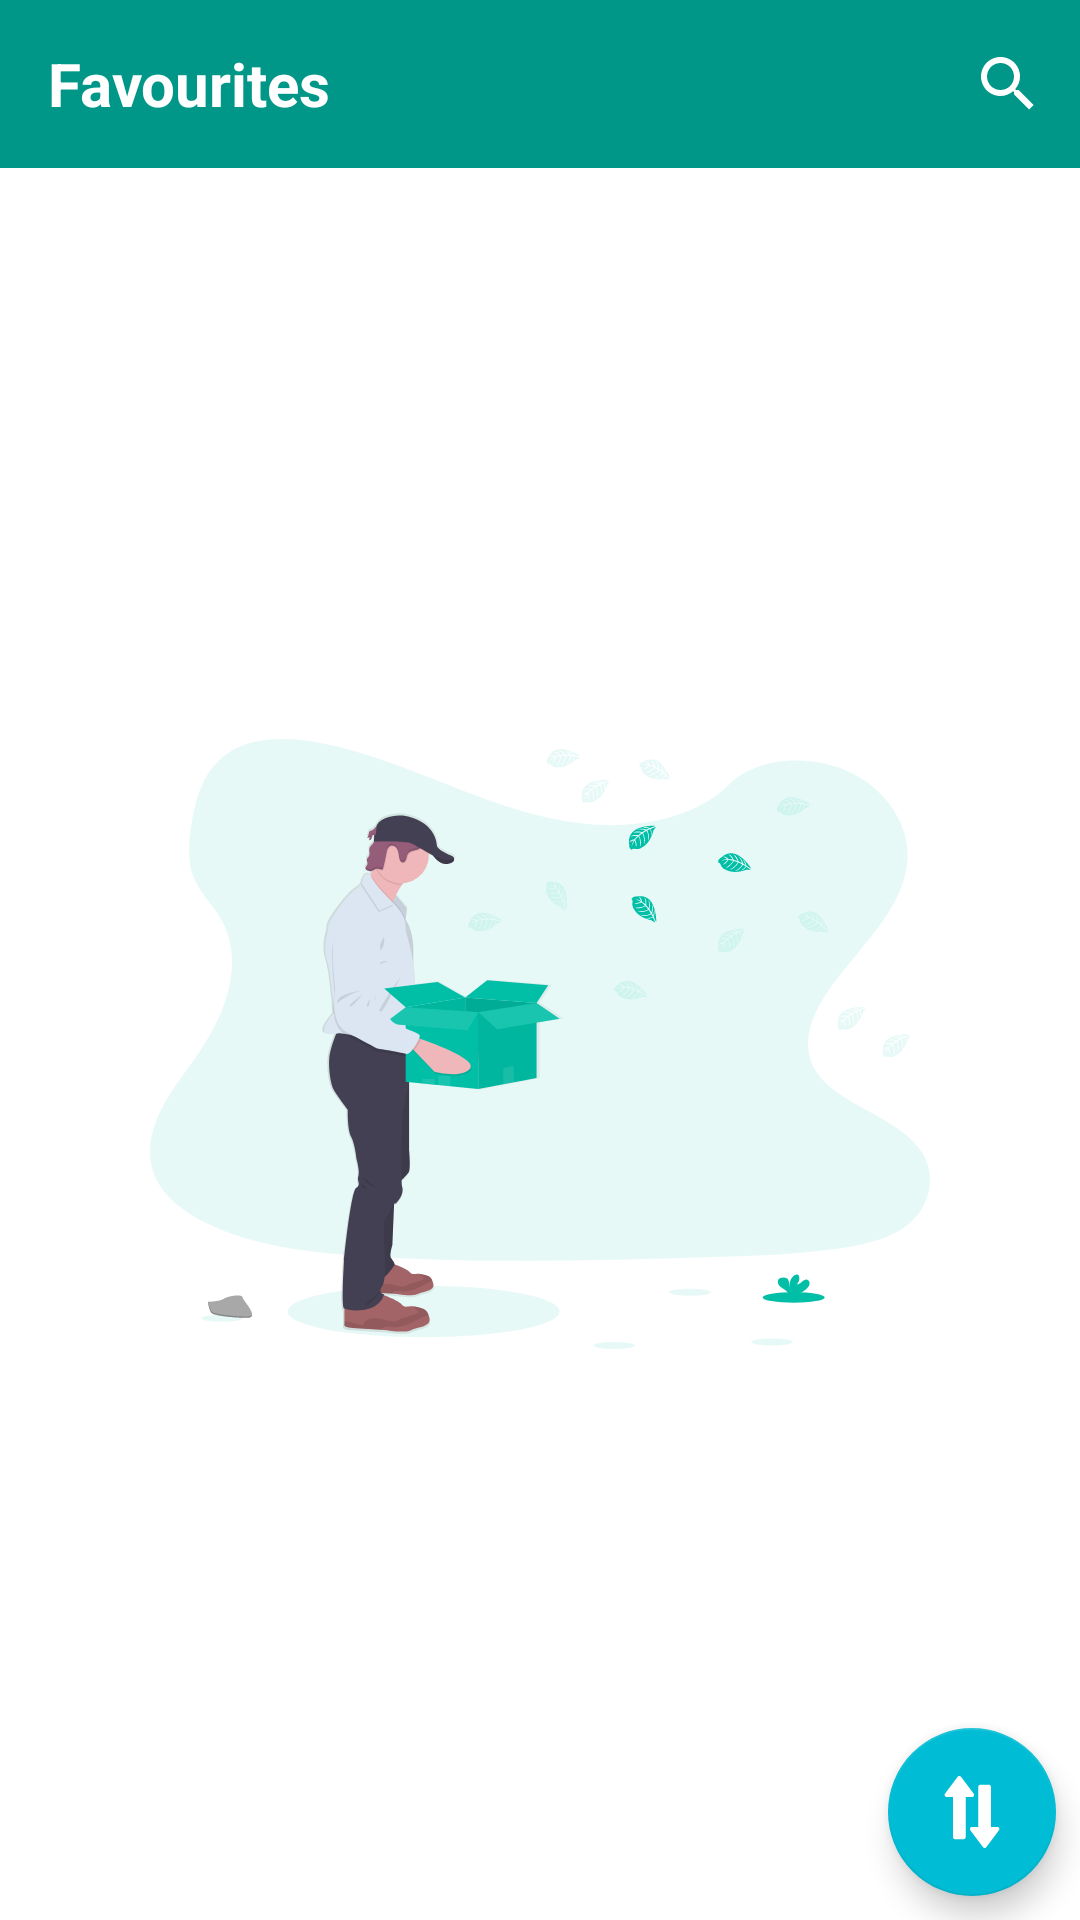

Where to tap for icons on this 1080×1920 app screen, as [x,y]:
sort: [972,1812]
